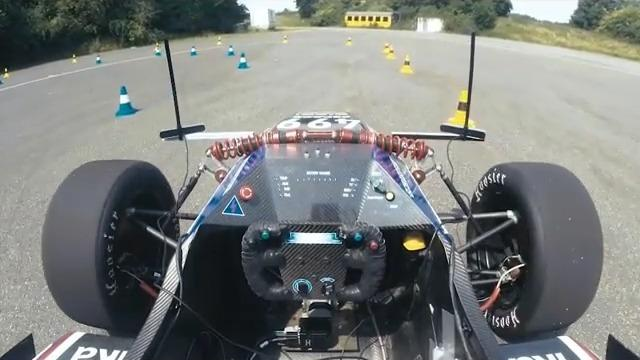blue_cone: (111, 85, 140, 117), (237, 49, 253, 72), (186, 42, 199, 62), (223, 41, 237, 57)
yellow_cone: (448, 90, 484, 137), (379, 39, 402, 57), (401, 53, 418, 76), (343, 30, 358, 45)
